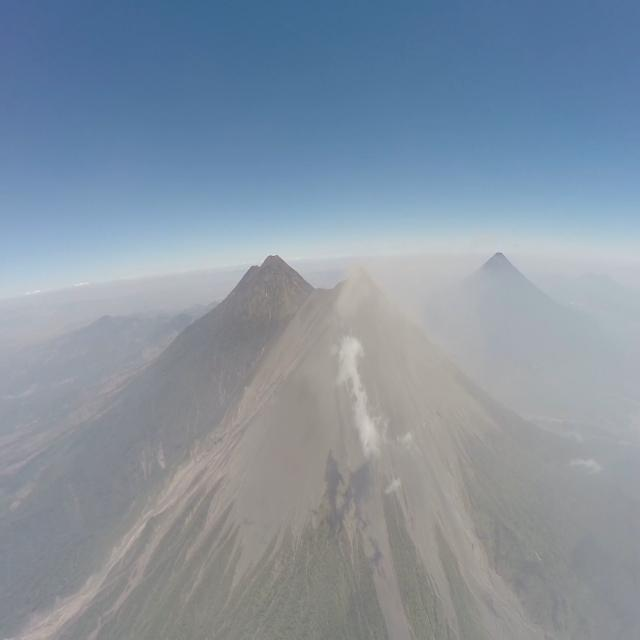Summit: (333, 264, 388, 300)
